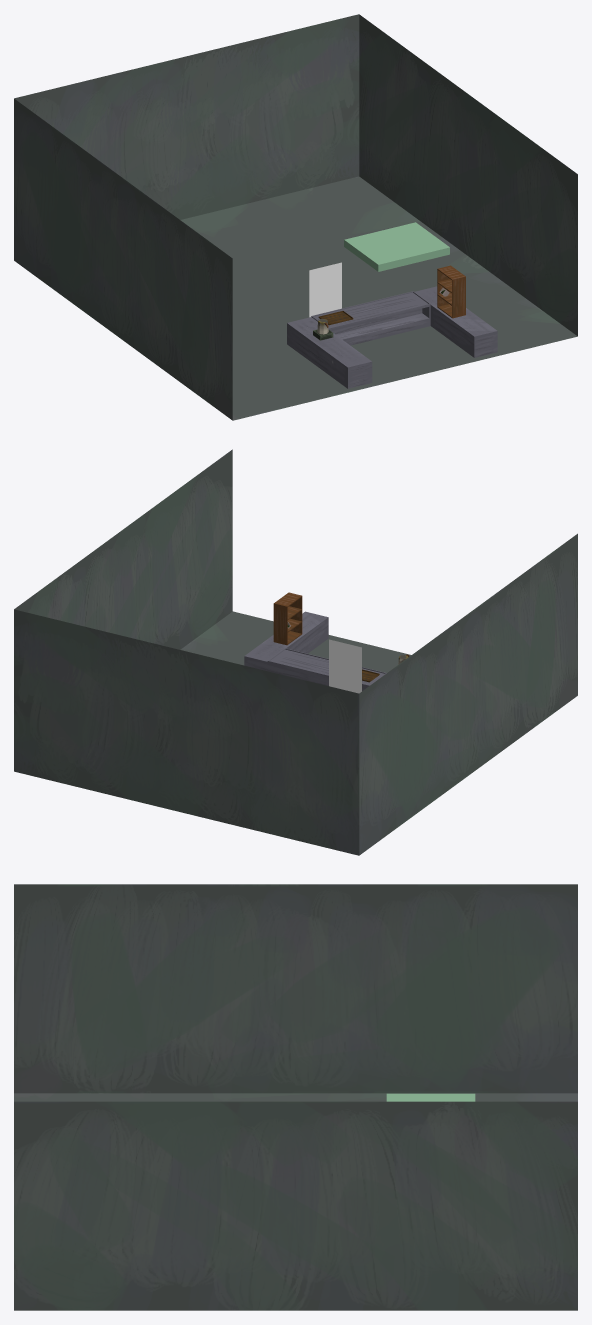
File: brewing_env.glb
3 views of the same model, one above another, from view 1: azimuth 30°, elevation 25°; view 2: azimuth 150°, elevation 25°; view 3: azimuth 270°, elevation 25° (orthographic). The views are drawn at different scales.
Parts seen in each view (by area): view 1: FloorWalls, Counter, Table2, sprite-noimp, TeaShelf; view 2: FloorWalls, Counter, sprite-noimp, TeaShelf; view 3: FloorWalls, Table1.
Boxes of the visible parts, left/top/right/bottom form: FloorWalls: left=14, top=14, right=577, bottom=420; Counter: left=287, top=286, right=497, bottom=388; Table2: left=344, top=222, right=449, bottom=271; sprite-noimp: left=309, top=262, right=341, bottom=317; TeaShelf: left=437, top=265, right=465, bottom=318; FloorWalls: left=14, top=449, right=577, bottom=855; Counter: left=244, top=611, right=386, bottom=690; sprite-noimp: left=329, top=639, right=361, bottom=693; TeaShelf: left=273, top=592, right=302, bottom=645; FloorWalls: left=14, top=884, right=577, bottom=1310; Table1: left=386, top=1093, right=475, bottom=1101.
Bounding box in the file's own units: 27.38 × 12.7 × 30.06.
Materials: 18 (12 with a texture image).
